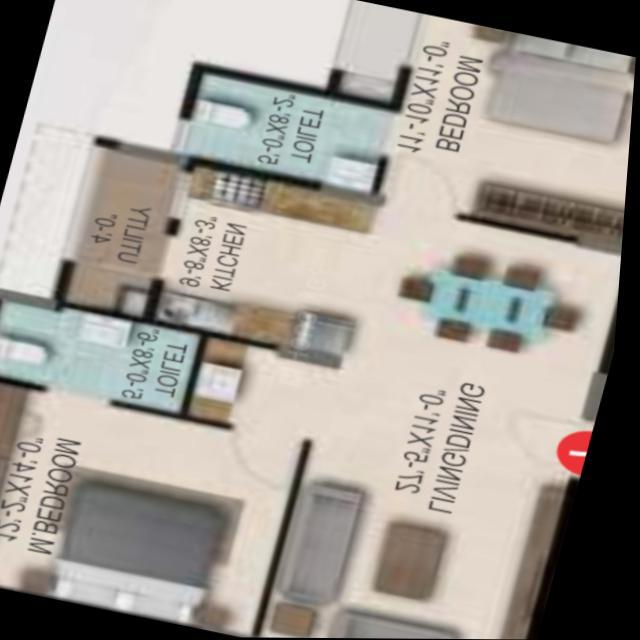Bedroom: (387, 15, 637, 246)
Bedroom with Toilet: (0, 298, 310, 636)
Dining: (393, 236, 602, 368)
Enterance-Foyer: (504, 405, 595, 481)
Kitchen: (162, 167, 379, 351)
Living: (276, 427, 579, 640)
Toilet: (183, 74, 395, 189), (0, 298, 205, 414)
Utility: (70, 149, 183, 315)
